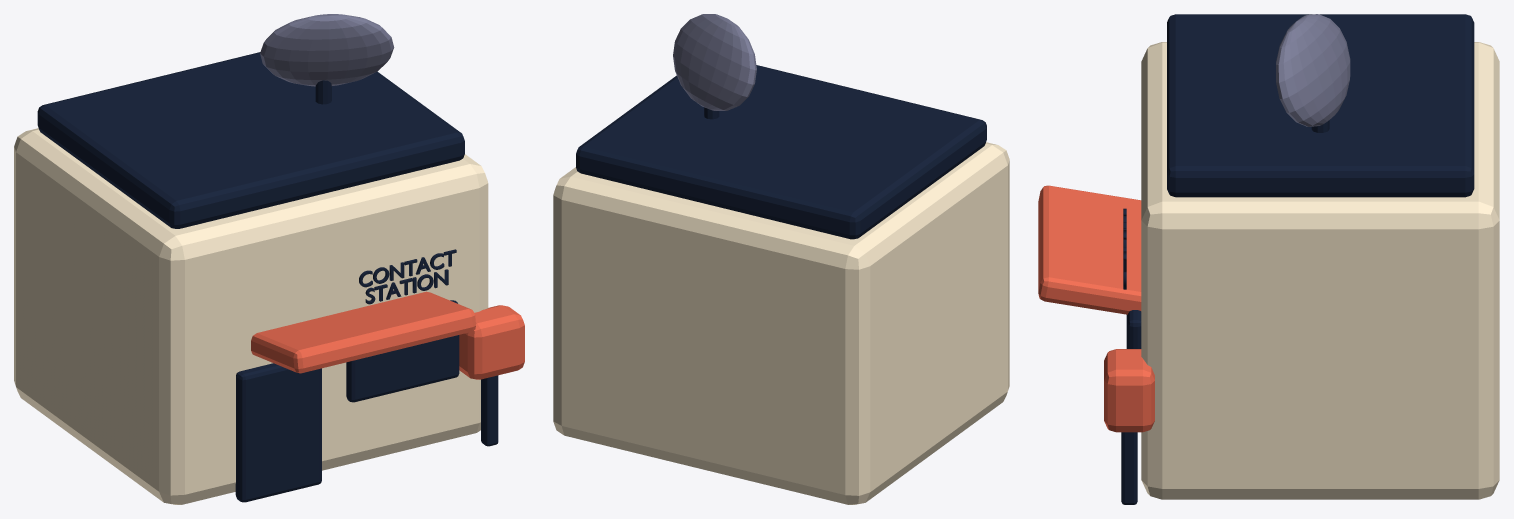
The model's file is contact-station.glb.
3 views of the same model, side by side, from view 1: azimuth 30°, elevation 25°; view 2: azimuth 150°, elevation 25°; view 3: azimuth 270°, elevation 25° (orthographic). The views are drawn at different scales.
Parts seen in each view (by area): view 1: ContactBody, ContactRoof, ContactDoor, ContactAwning, SatelliteDish, ContactWindow, Mailbox, ContactLabel, MailboxPost; view 2: ContactBody, ContactRoof, SatelliteDish; view 3: ContactBody, ContactRoof, ContactAwning, SatelliteDish, Mailbox, MailboxPost, ContactWindow.
Part boxes in pixels (x1,y1,x2,y2): ContactBody: (14, 128, 488, 504); ContactRoof: (37, 52, 464, 228); ContactDoor: (235, 363, 321, 502); ContactAwning: (251, 291, 475, 373); SatelliteDish: (260, 14, 394, 86); ContactWindow: (346, 300, 459, 402); Mailbox: (459, 305, 524, 379); ContactLabel: (359, 249, 456, 304); MailboxPost: (481, 375, 498, 446); ContactBody: (553, 142, 1009, 504); ContactRoof: (576, 65, 986, 239); SatelliteDish: (673, 14, 756, 110); ContactBody: (1141, 42, 1499, 499); ContactRoof: (1167, 14, 1474, 197); ContactAwning: (1038, 185, 1141, 314); SatelliteDish: (1276, 14, 1350, 126); Mailbox: (1104, 349, 1154, 432); MailboxPost: (1121, 432, 1137, 504); ContactWindow: (1128, 310, 1141, 348).
Bounding box in the file's own units: 2.94 × 3.22 × 3.09.
